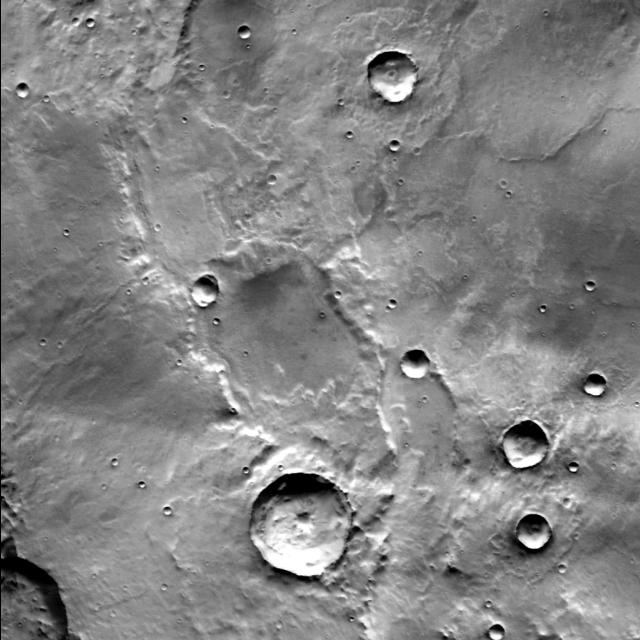crater: (185, 250, 337, 404), (216, 293, 368, 447), (175, 0, 294, 104), (249, 479, 351, 582), (371, 379, 458, 469), (0, 564, 66, 640), (368, 57, 418, 107), (501, 428, 546, 475), (518, 522, 550, 556), (398, 356, 428, 385), (190, 284, 218, 312), (583, 381, 603, 401), (13, 90, 28, 104), (238, 33, 250, 45), (389, 147, 399, 157), (584, 288, 594, 298), (567, 468, 577, 478), (386, 306, 396, 316), (266, 182, 276, 192), (556, 570, 566, 580), (162, 514, 172, 524), (562, 504, 572, 514), (379, 561, 389, 571), (85, 27, 94, 35), (222, 96, 230, 105), (462, 464, 469, 474), (78, 17, 86, 25), (345, 138, 353, 146), (117, 458, 125, 466), (47, 95, 54, 102), (159, 225, 166, 232), (506, 181, 513, 188), (339, 291, 346, 298), (419, 147, 426, 154), (545, 306, 551, 314), (68, 228, 74, 236), (144, 480, 150, 488), (282, 620, 288, 628), (344, 98, 350, 104), (218, 317, 224, 323)
